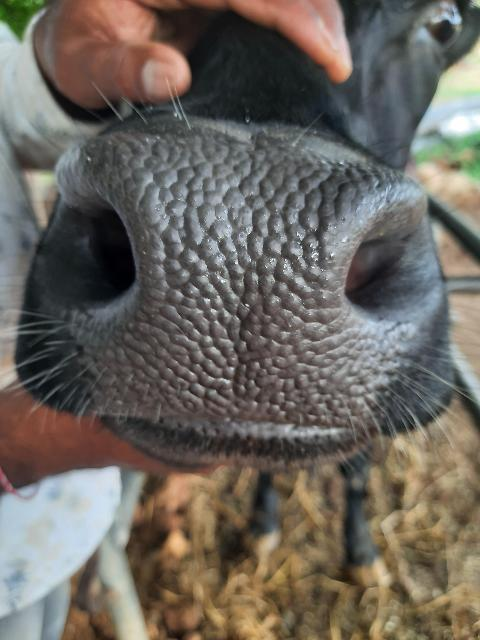Muzzle: (67, 123, 415, 455)
